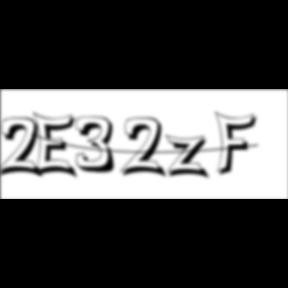2: (121, 117, 171, 181), (0, 117, 48, 181)
3: (76, 116, 122, 176)
E: (34, 110, 83, 182)
F: (215, 110, 263, 178)
z: (166, 134, 214, 182)
